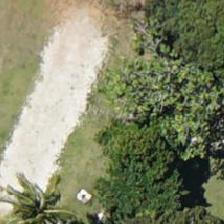coconut_tree: (0, 162, 83, 223)
